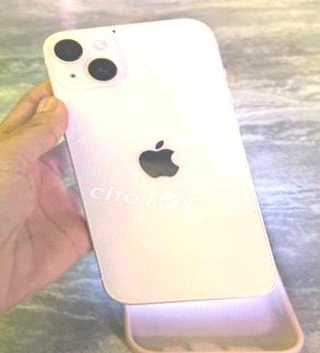physical_damage: (106, 178, 193, 221), (123, 51, 195, 102), (88, 262, 157, 307), (168, 254, 224, 300), (214, 258, 272, 299), (145, 262, 195, 309), (169, 134, 235, 168), (208, 163, 269, 197), (114, 230, 166, 269), (92, 145, 144, 180), (112, 204, 168, 235), (85, 119, 139, 150), (155, 101, 203, 135), (110, 96, 154, 126), (156, 18, 192, 52), (104, 26, 143, 54), (64, 135, 92, 160)
